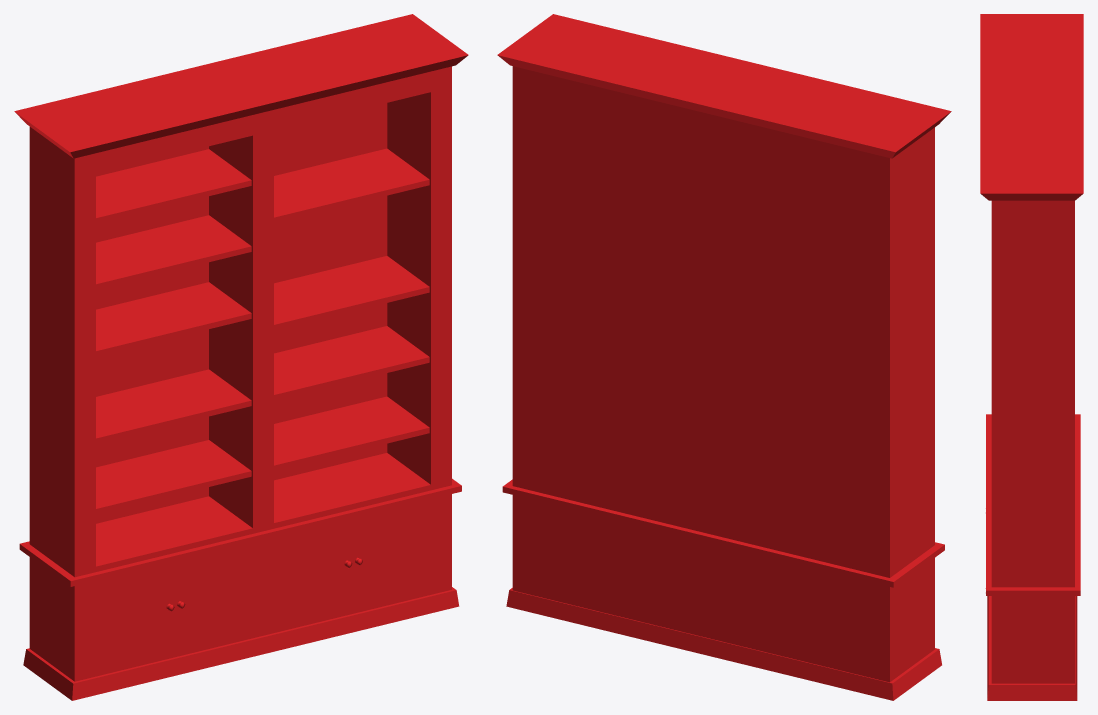
File: Boolcase_Collider.fbx
The picture shows the model from 3 angles, left to right: view 1: azimuth 30°, elevation 25°; view 2: azimuth 150°, elevation 25°; view 3: azimuth 270°, elevation 25°; orthographic projection. The views are drawn at different scales.
Parts seen in each view (by area): view 1: Bookcase_Collider; view 2: Bookcase_Collider; view 3: Bookcase_Collider.
Part boxes in pixels (left/top/right/bottom): Bookcase_Collider: left=14, top=14, right=468, bottom=700; Bookcase_Collider: left=497, top=14, right=951, bottom=700; Bookcase_Collider: left=980, top=14, right=1083, bottom=700.
Size of the model in its own units: 150 by 199 by 36.68.
